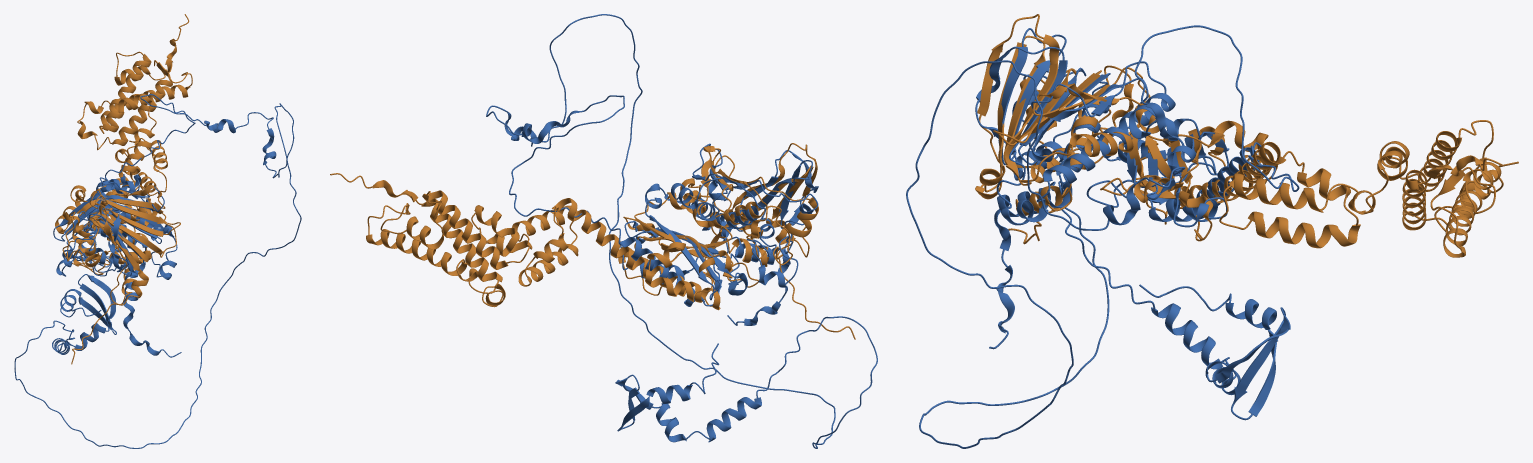
The model's file is AF-A0A0U1RHB2-F1-AF-A0A669KBB4-F1.glb.
3 views of the same model, side by side, from view 1: azimuth 30°, elevation 25°; view 2: azimuth 150°, elevation 25°; view 3: azimuth 270°, elevation 25° (orthographic). The views are drawn at different scales.
Bounding box in the file's own units: 125 × 116 × 130.
